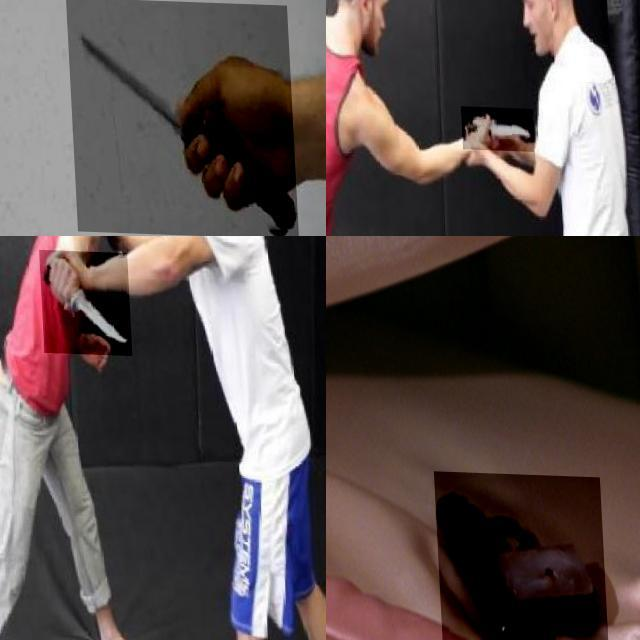-: (64, 0, 294, 235), (37, 248, 130, 354), (459, 104, 533, 148)
gun-knife-thesis - v11 Yolov5 augmented: (430, 469, 605, 640)
